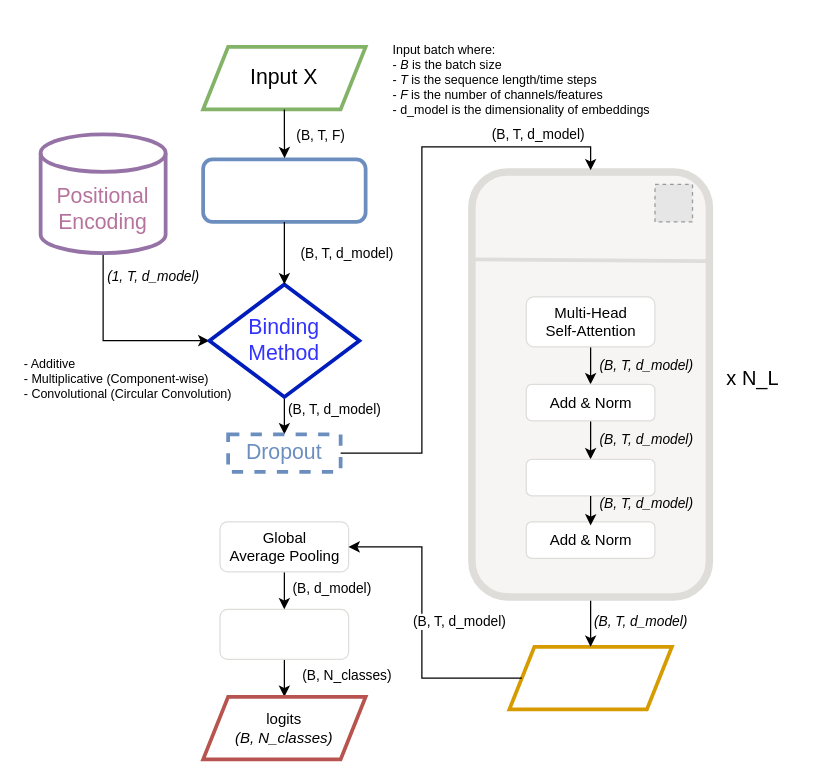
Image size: 830x783. Some labels were removed from this diagram. Grey dashed boxes stand in for pictures. The shapes that lost their labels are listed below. From the top down, each one's box as (x1, y1, x2, y2) in pixels, then its label:
(201, 157, 367, 223): Input Embedding
(468, 168, 712, 600): Encoder Layer Stack
(525, 458, 655, 496): Position-wise FNN
(219, 608, 349, 659): Classification Head
(507, 644, 673, 711): Contextualized Representation (B, T, d_model)
